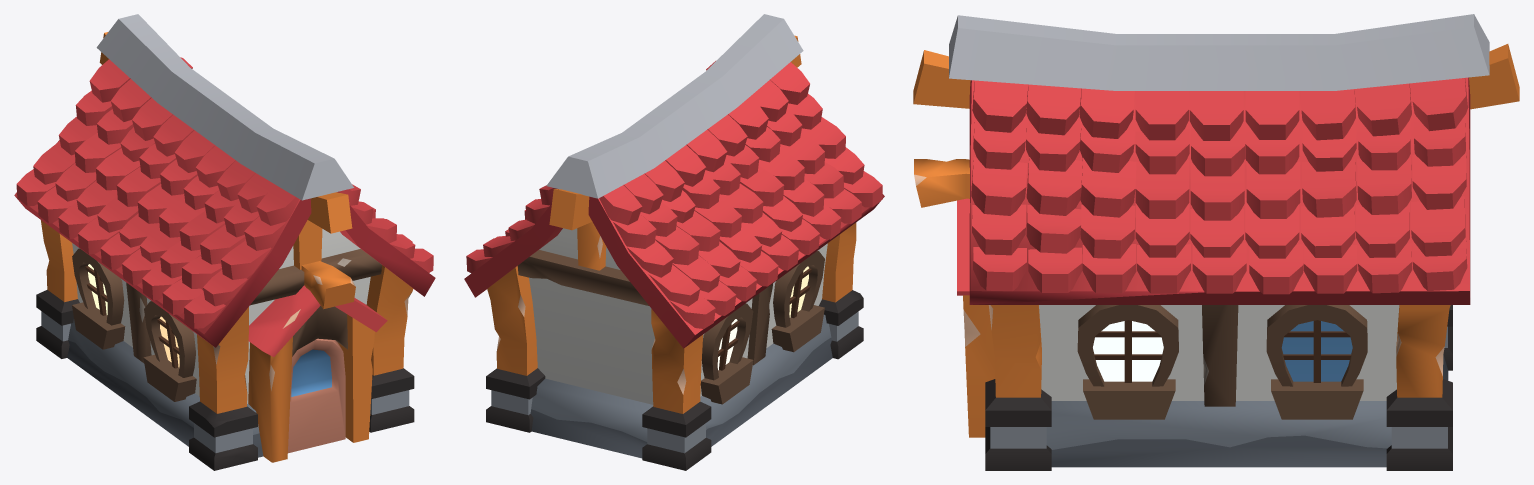
Rendered from casa_vila_fantasia_pacote.glb.
The picture shows the model from 3 angles, left to right: view 1: azimuth 30°, elevation 25°; view 2: azimuth 150°, elevation 25°; view 3: azimuth 270°, elevation 25°; orthographic projection. The views are drawn at different scales.
Visible parts, largest first — view 1: casa_vila_fantasia_pacote; view 2: casa_vila_fantasia_pacote; view 3: casa_vila_fantasia_pacote.
Part boxes in pixels (box(x1,y1,x2,y2)): casa_vila_fantasia_pacote: box(14, 14, 435, 470); casa_vila_fantasia_pacote: box(464, 14, 884, 470); casa_vila_fantasia_pacote: box(913, 14, 1519, 470).
Size of the model in its own units: 5.54 by 6.45 by 9.18.
5 materials, 1 textured.
